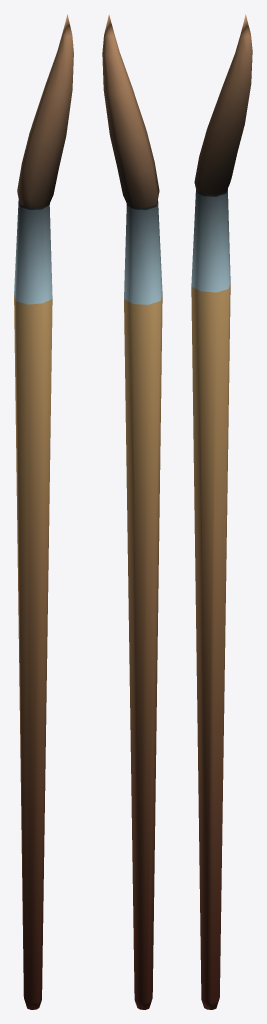
Rendered from brush.glb.
The picture shows the model from 3 angles, left to right: view 1: azimuth 30°, elevation 25°; view 2: azimuth 150°, elevation 25°; view 3: azimuth 330°, elevation 25°; orthographic projection.
Parts seen in each view (by area): view 1: brush; view 2: brush; view 3: brush.
Part boxes in pixels (x1,y1,x2,y2): brush: (14, 14, 73, 1009); brush: (102, 14, 162, 1009); brush: (191, 14, 252, 1009).
Bounding box in the file's own units: 0.0259 × 0.4246 × 0.0156.
1 material, 1 textured.
